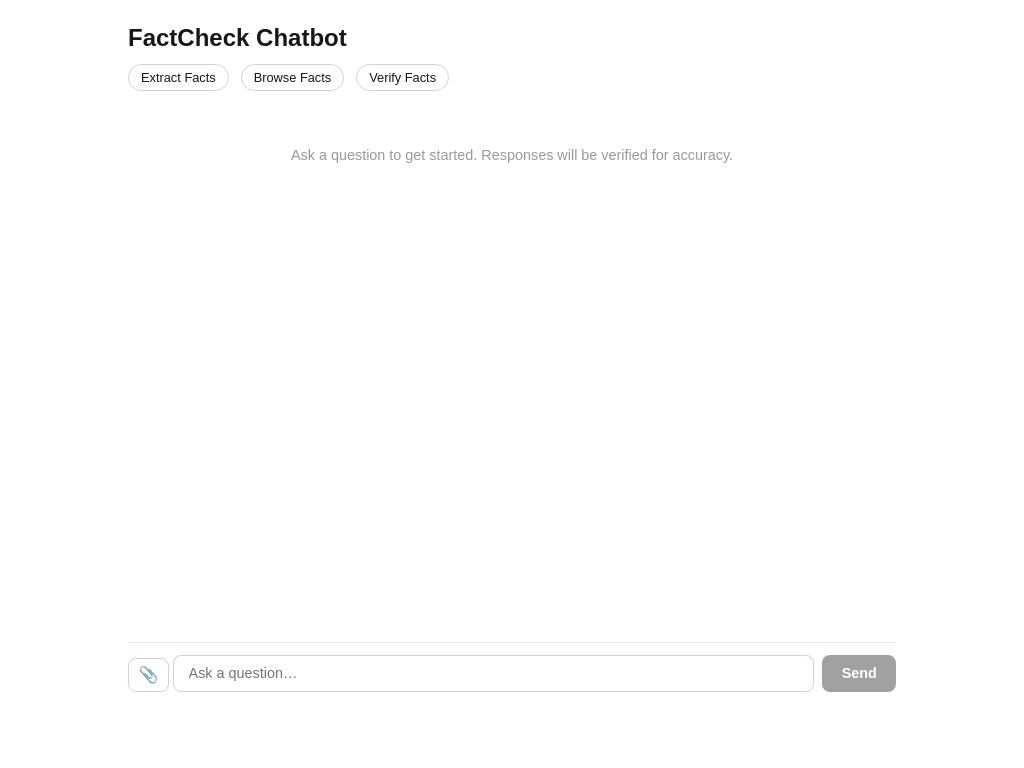
Scenario: ChatGPT integration – end-to-end user session › displays a ChatGPT response after the user sends a message
The width and height of the screenshot is (1024, 768).
Type "Tell me about the sun" into the field named "chat input" at (494, 673), box [173, 655, 814, 692]
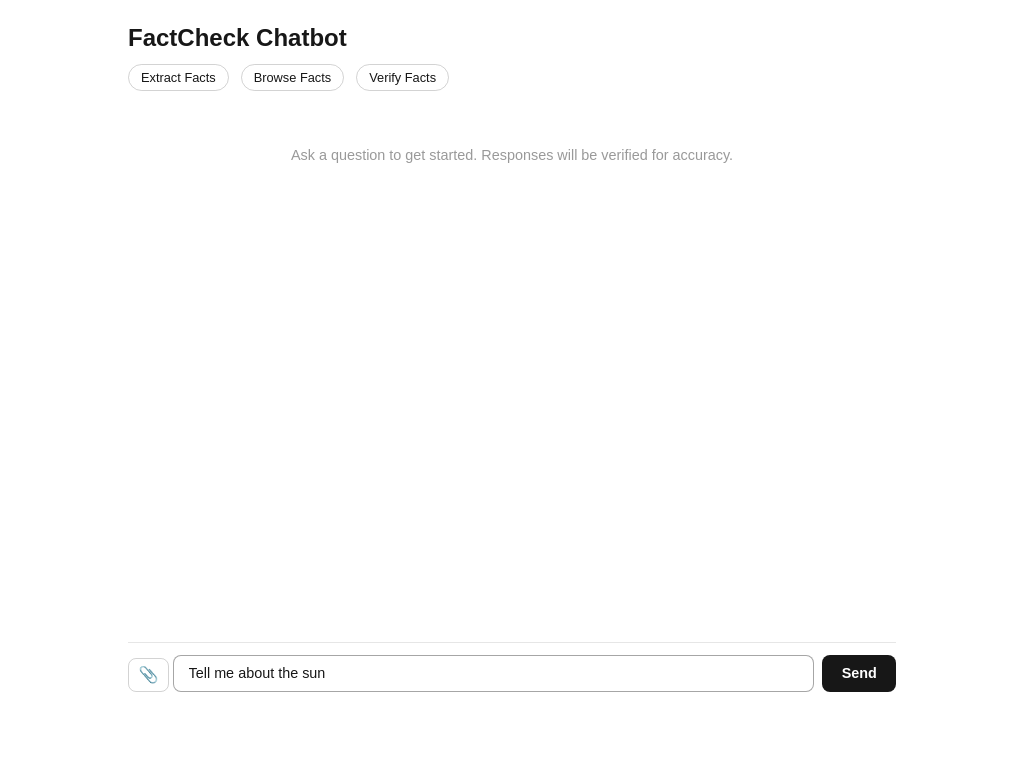
Click the button with aria-label "send message" at (859, 673), box [822, 655, 896, 692]
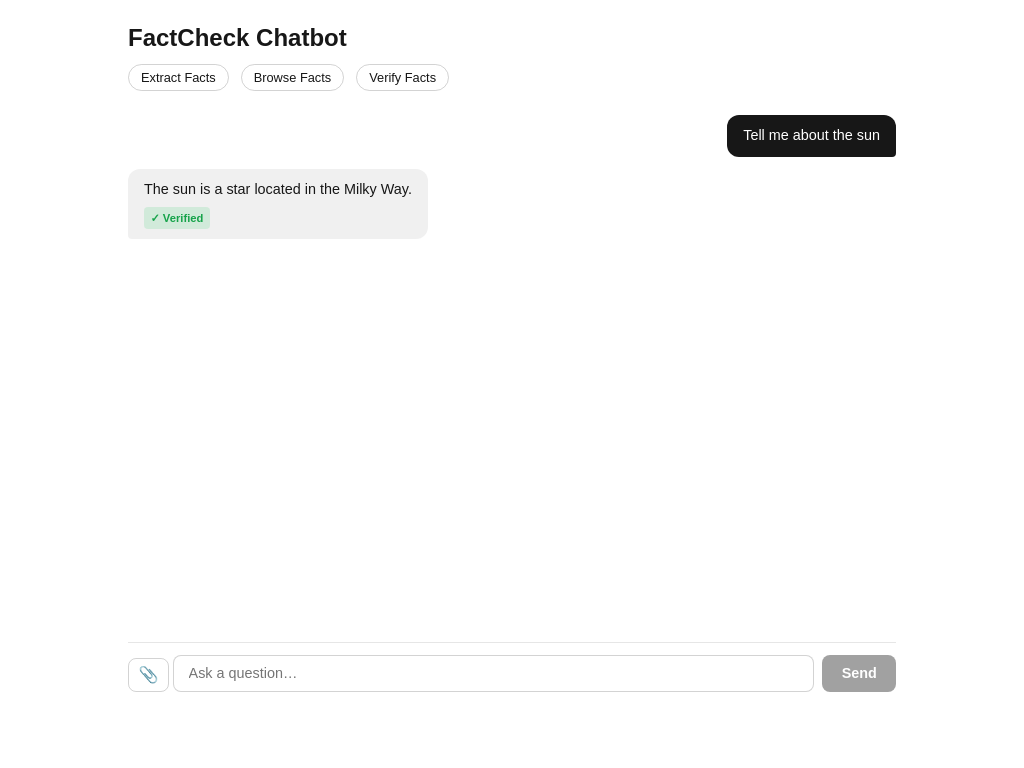
Expected: the text "The sun is a star located in the Milky Way." is shown, [144, 179, 412, 201]
